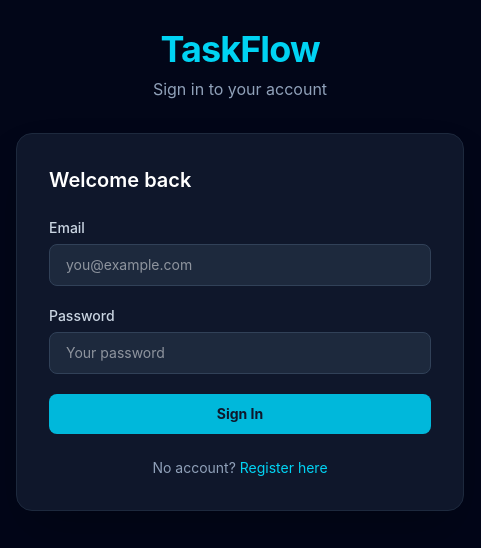
Test: Login Component › 2. shows validation errors when submitting empty form
Step 1. Click the button "Sign In" → (240, 414), box [49,394,431,434]
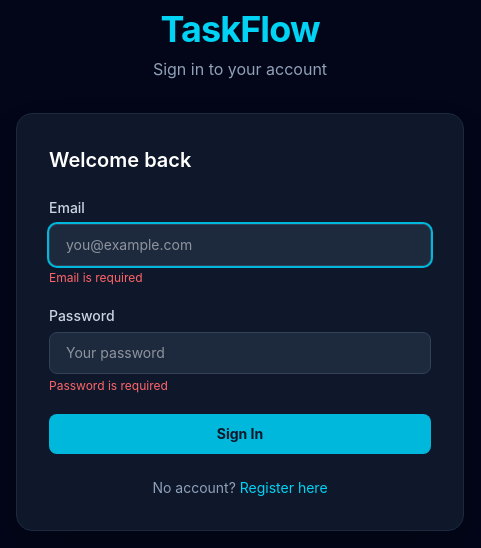
expect the text "Email is required" is shown: met, box [49,270,143,285]
expect the text "Password is required" is shown: met, box [49,378,168,393]
